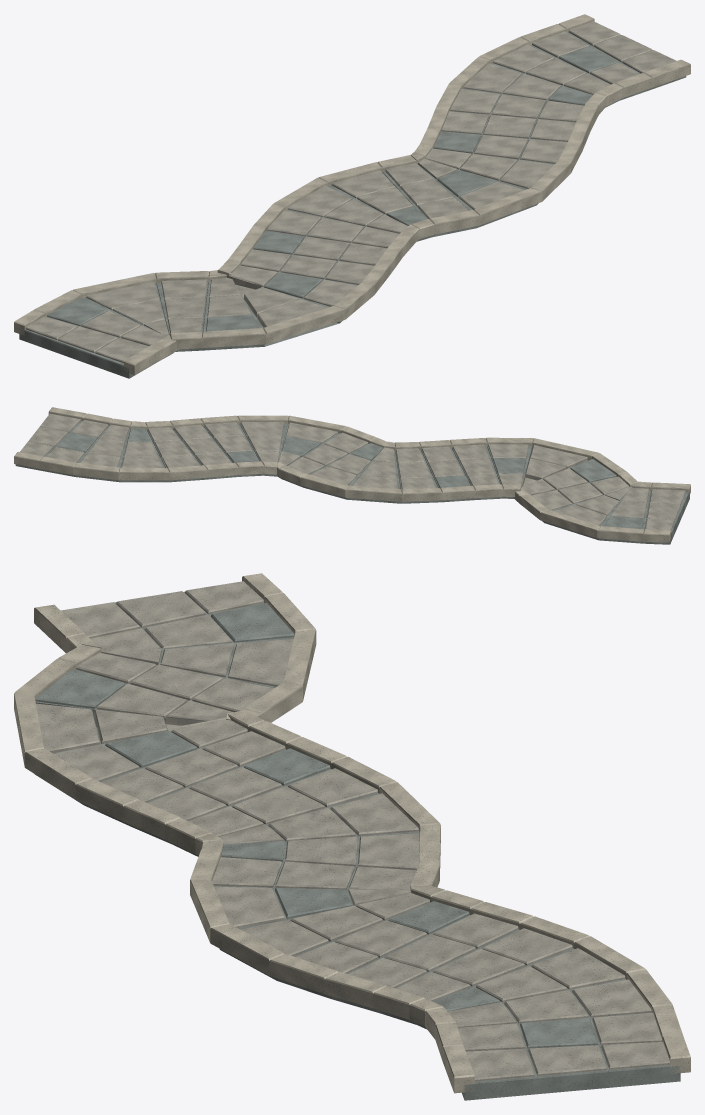
The picture shows the model from 3 angles, top to bottom: view 1: azimuth 30°, elevation 25°; view 2: azimuth 150°, elevation 25°; view 3: azimuth 270°, elevation 25°; orthographic projection. The views are drawn at different scales.
Visible parts, largest first — view 1: C13_stone, C13_light, C13_cool; view 2: C13_stone, C13_light, C13_cool; view 3: C13_stone, C13_light, C13_cool.
Part boxes in pixels (left/top/right/bottom): C13_stone: left=25, top=21, right=676, bottom=363; C13_light: left=14, top=14, right=690, bottom=375; C13_cool: left=19, top=32, right=686, bottom=378; C13_stone: left=20, top=413, right=685, bottom=530; C13_light: left=14, top=407, right=690, bottom=542; C13_cool: left=15, top=421, right=689, bottom=544; C13_stone: left=36, top=581, right=669, bottom=1081; C13_light: left=14, top=573, right=690, bottom=1093; C13_cool: left=34, top=591, right=680, bottom=1100.
Bounding box in the file's own units: 12.32 × 0.756 × 6.38.
Materials: 3 (3 with a texture image).
